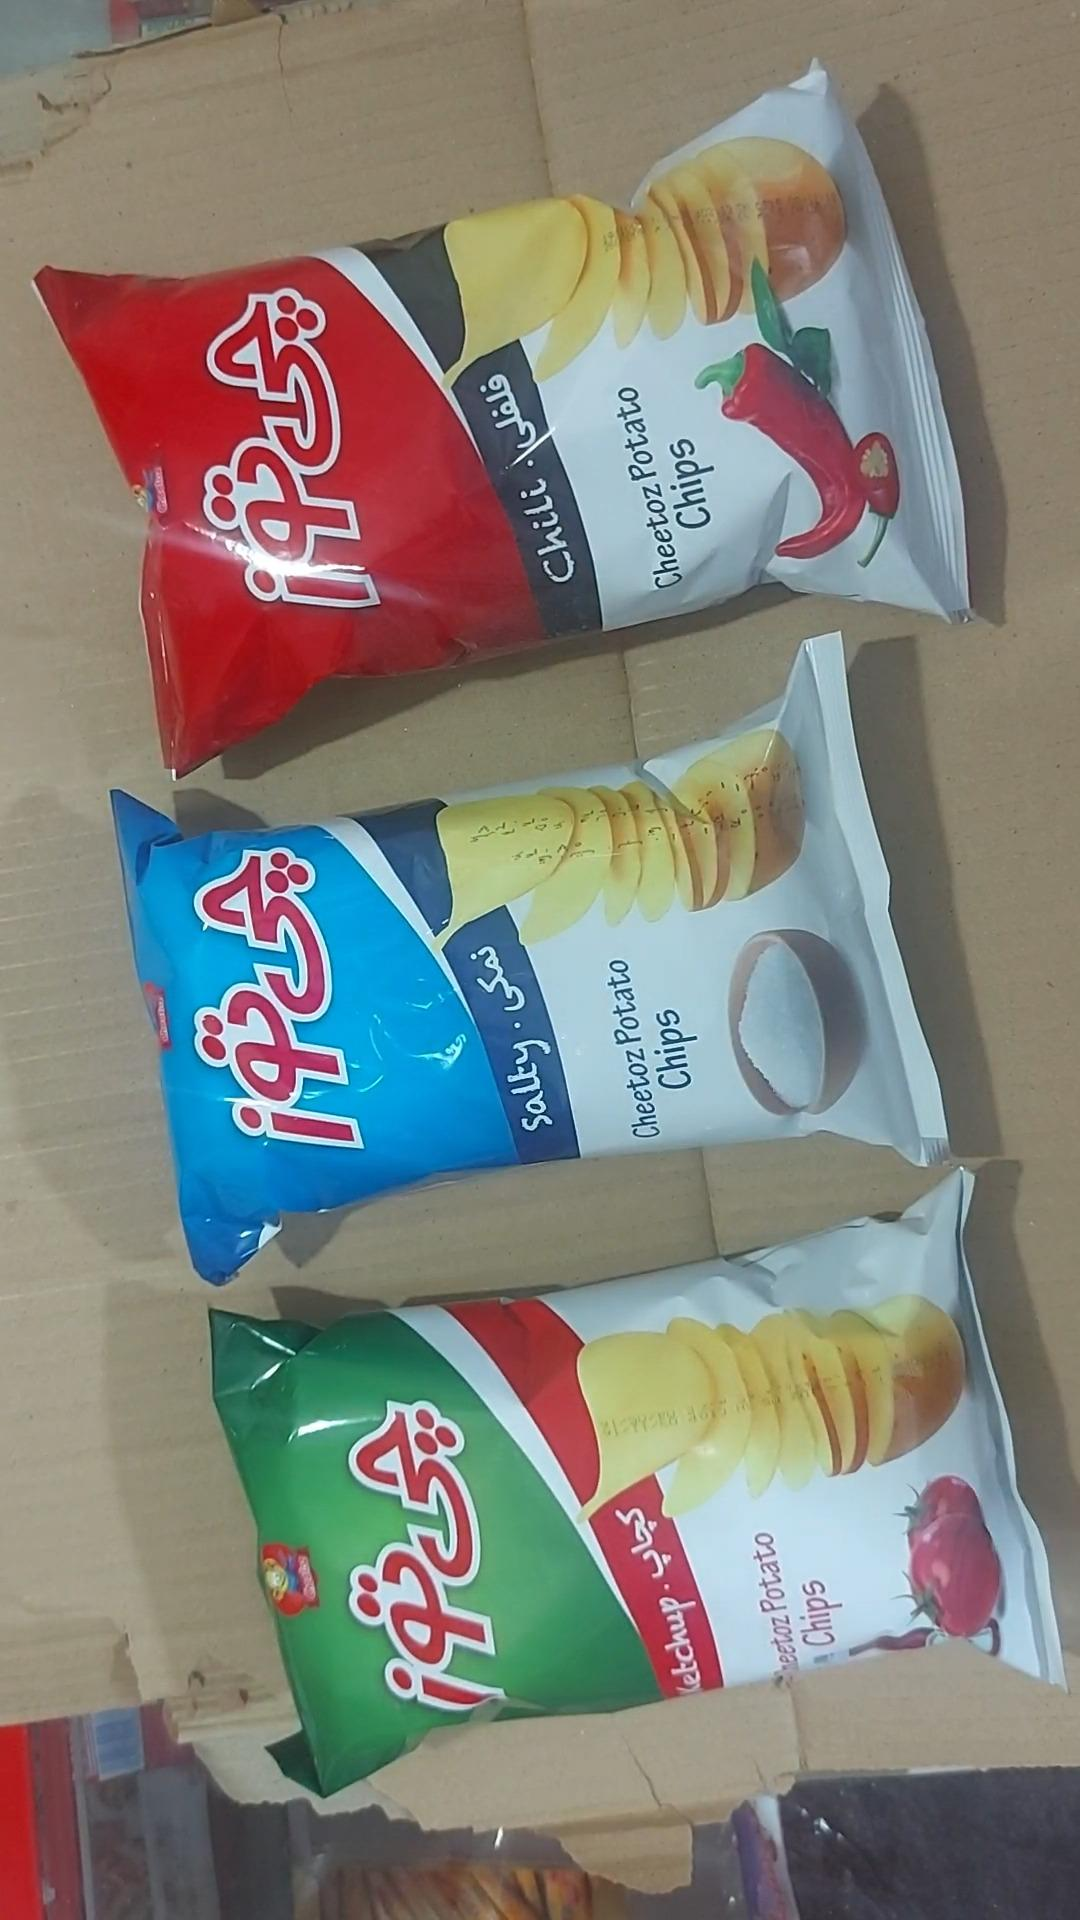Cheetoz chili chips: (33, 63, 972, 781)
Cheetoz ketchup chips: (204, 1166, 1065, 1801)
Cheetoz salty chips: (108, 632, 949, 1290)
